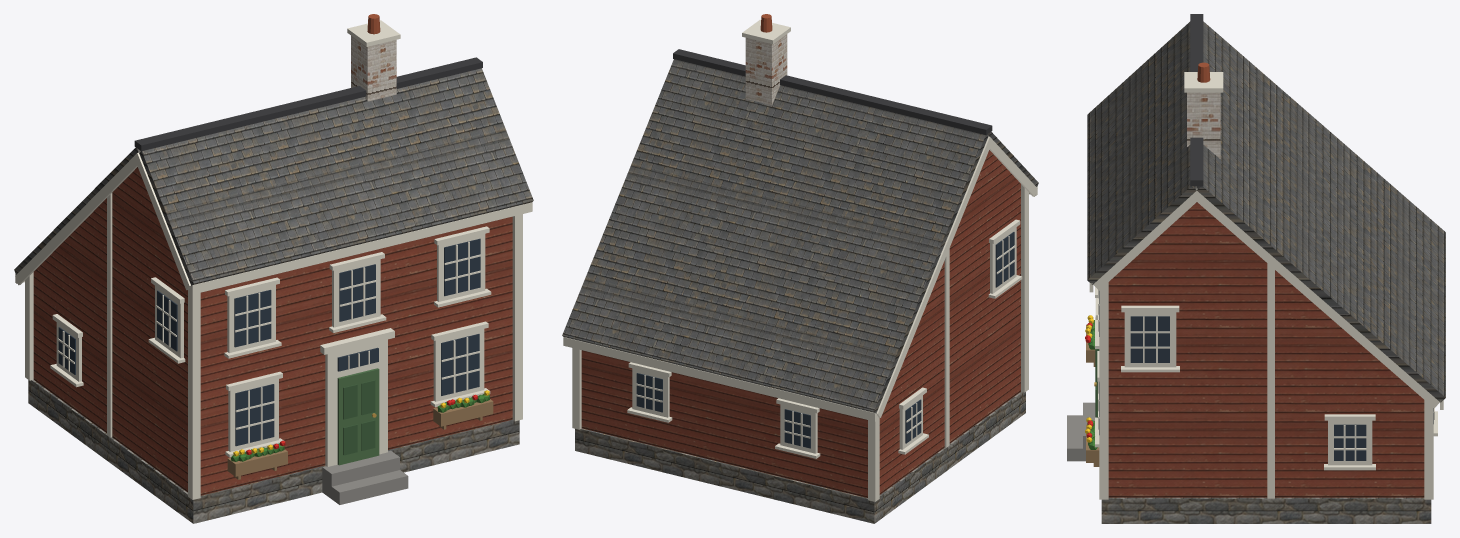
The picture shows the model from 3 angles, left to right: view 1: azimuth 30°, elevation 25°; view 2: azimuth 150°, elevation 25°; view 3: azimuth 270°, elevation 25°; orthographic projection. The views are drawn at different scales.
Parts seen in each view (by area): view 1: SaltboxHouse; view 2: SaltboxHouse; view 3: SaltboxHouse.
Part boxes in pixels (left/top/right/bottom): SaltboxHouse: left=14, top=14, right=533, bottom=523; SaltboxHouse: left=562, top=14, right=1038, bottom=523; SaltboxHouse: left=1067, top=14, right=1445, bottom=523.
Size of the model in its own units: 8.5 by 9.81 by 8.16.
Materials: 16 (4 with a texture image).
